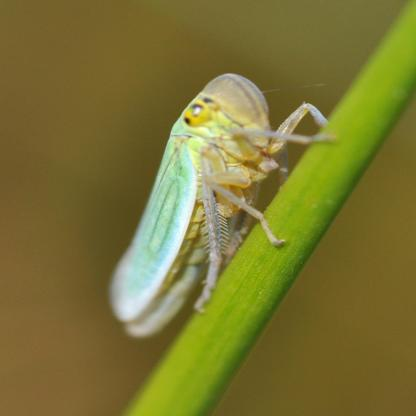Green-Leafhopper: (106, 70, 338, 340)
